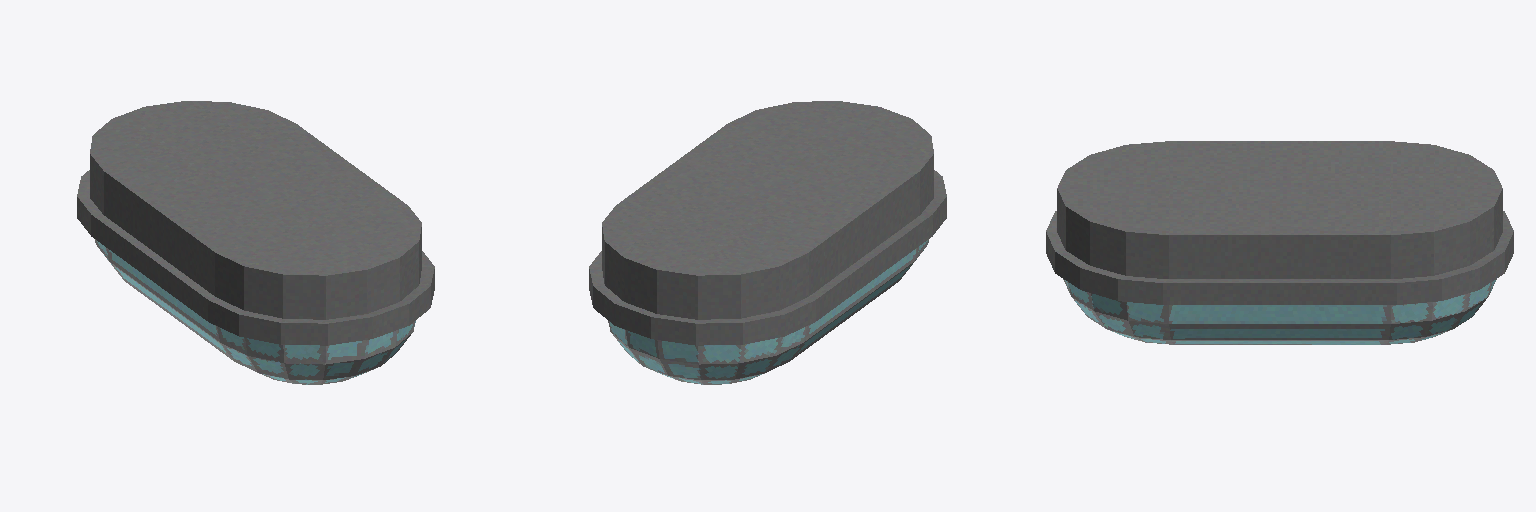
The picture shows the model from 3 angles: view 1: azimuth 30°, elevation 25°; view 2: azimuth 150°, elevation 25°; view 3: azimuth 270°, elevation 25°; orthographic projection.
Parts seen in each view (by area): view 1: basemendtsconce; view 2: basemendtsconce; view 3: basemendtsconce.
Part boxes in pixels (x1,y1,x2,y2): basemendtsconce: (77,101,434,384); basemendtsconce: (589,101,946,384); basemendtsconce: (1046,141,1513,344).
Bounding box in the file's own units: 0.44 × 0.2684 × 0.84.
1 materials, 1 textured.